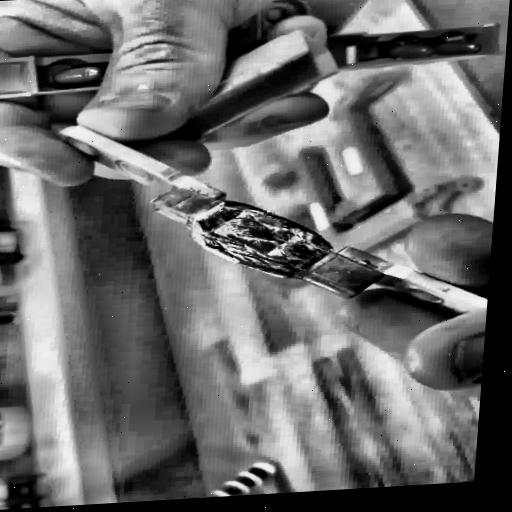busbar: (55, 120, 487, 321)
